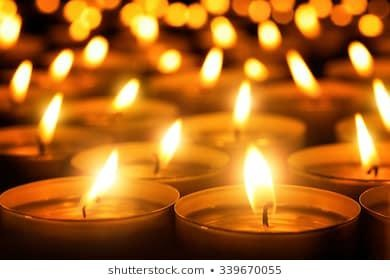fire: (242, 141, 277, 216), (83, 147, 119, 207), (284, 49, 320, 95), (35, 91, 64, 147), (351, 112, 376, 168), (155, 117, 183, 166), (231, 79, 255, 128), (0, 1, 23, 50), (8, 58, 34, 100), (111, 77, 141, 112), (47, 48, 74, 83), (199, 47, 225, 83), (347, 38, 373, 74)
